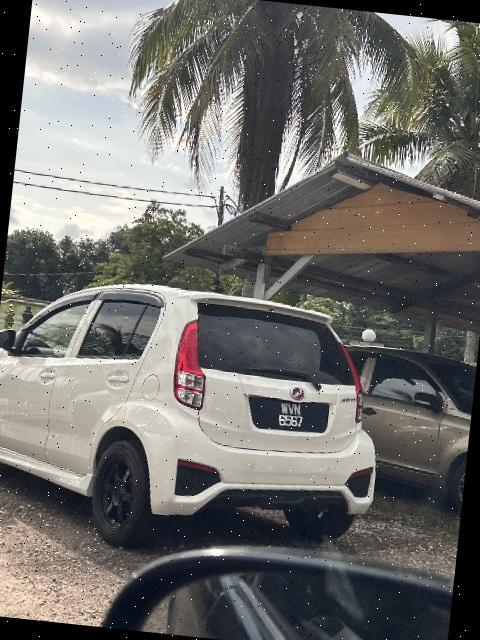License_Plate: (252, 397, 330, 436)
WVN6567: (252, 397, 330, 436)
car: (1, 271, 395, 570)
